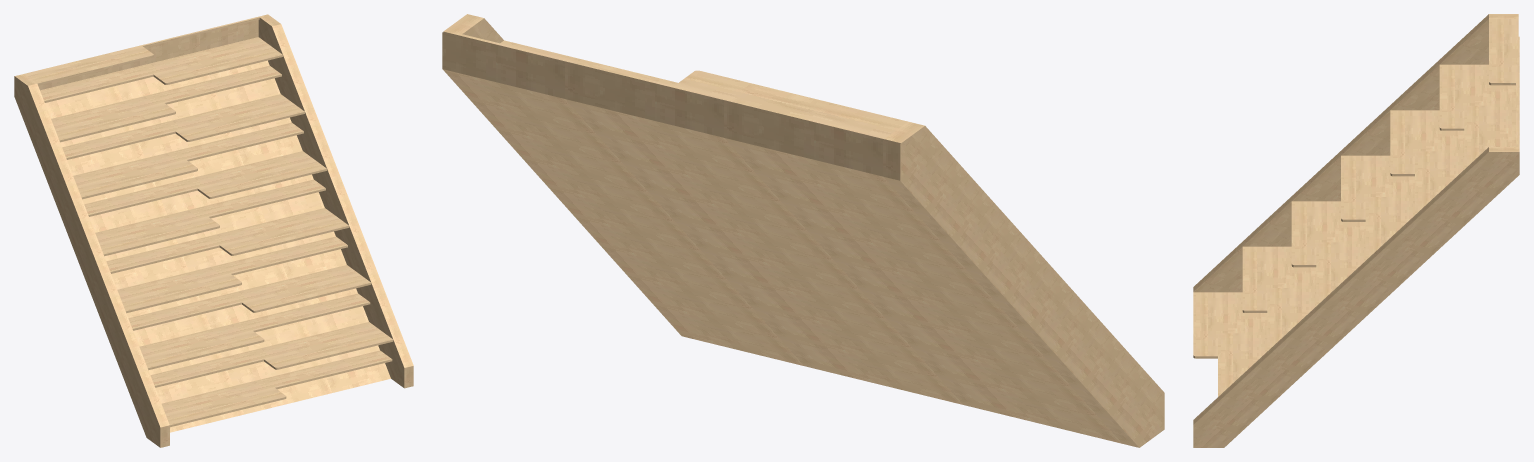
The model's file is sh-contrib-staircase-samba-265x150x85.glb.
3 views of the same model, side by side, from view 1: azimuth 30°, elevation 25°; view 2: azimuth 150°, elevation 25°; view 3: azimuth 270°, elevation 25° (orthographic). The views are drawn at different scales.
Parts seen in each view (by area): view 1: 5_5, 17_17; view 2: 17_17, 5_5; view 3: 5_5, 17_17.
Part boxes in pixels (bbox=[...]): 5_5: bbox=[14, 14, 413, 447]; 17_17: bbox=[14, 20, 390, 437]; 17_17: bbox=[442, 32, 1140, 447]; 5_5: bbox=[443, 14, 1164, 446]; 5_5: bbox=[1193, 14, 1518, 447]; 17_17: bbox=[1223, 36, 1519, 447].
Bounding box in the file's own units: 1 × 1 × 1.
2 materials, 2 textured.
